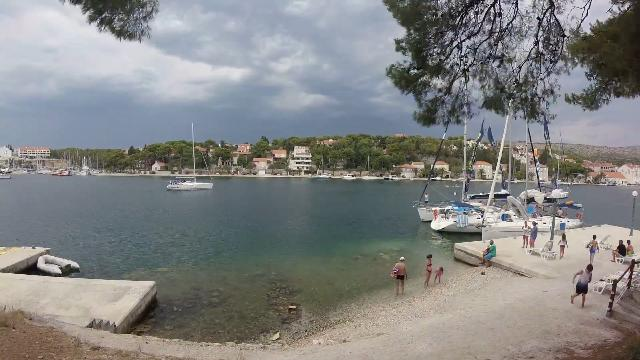Sailboat: (162, 174, 222, 194)
